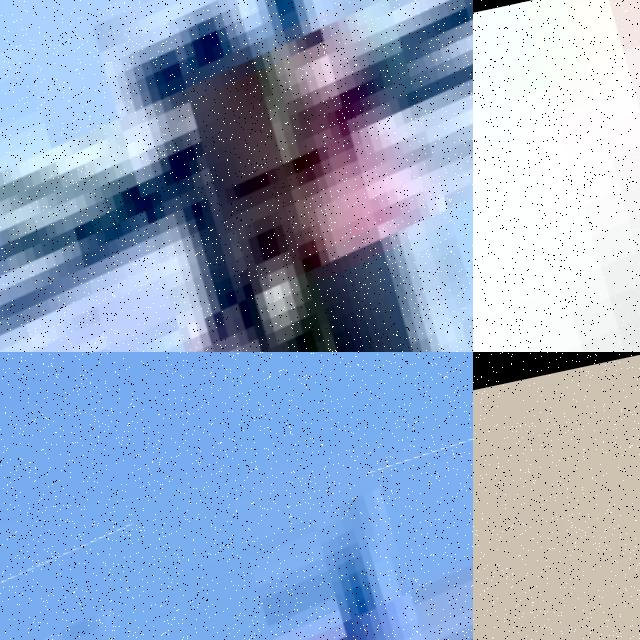0: (0, 0, 473, 352), (0, 435, 473, 640)
drone: (473, 0, 640, 352)
